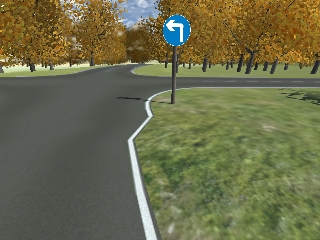left: (162, 13, 195, 44)
